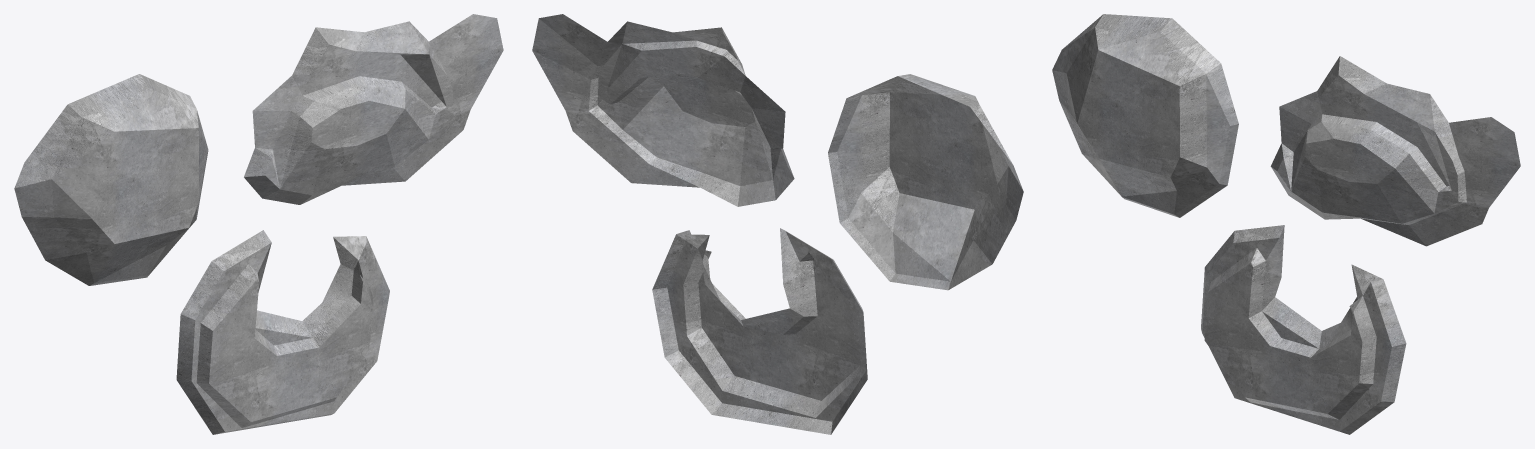
File: RockPack.fbx
The picture shows the model from 3 angles, left to right: view 1: azimuth 30°, elevation 25°; view 2: azimuth 150°, elevation 25°; view 3: azimuth 330°, elevation 25°; orthographic projection. The views are drawn at different scales.
Visible parts, largest first — view 1: Rock2, Rock1, Rock3; view 2: Rock2, Rock1, Rock3; view 3: Rock2, Rock1, Rock3.
Boxes of the visible parts, left/top/right/bottom form: Rock2: left=244, top=14, right=503, bottom=204; Rock1: left=14, top=74, right=208, bottom=285; Rock3: left=176, top=230, right=389, bottom=434; Rock2: left=532, top=14, right=794, bottom=206; Rock1: left=828, top=74, right=1023, bottom=290; Rock3: left=652, top=228, right=867, bottom=434; Rock2: left=1270, top=56, right=1520, bottom=246; Rock1: left=1052, top=14, right=1238, bottom=217; Rock3: left=1201, top=225, right=1406, bottom=434.
Size of the model in its own units: 11515 by 8767 by 1060.
